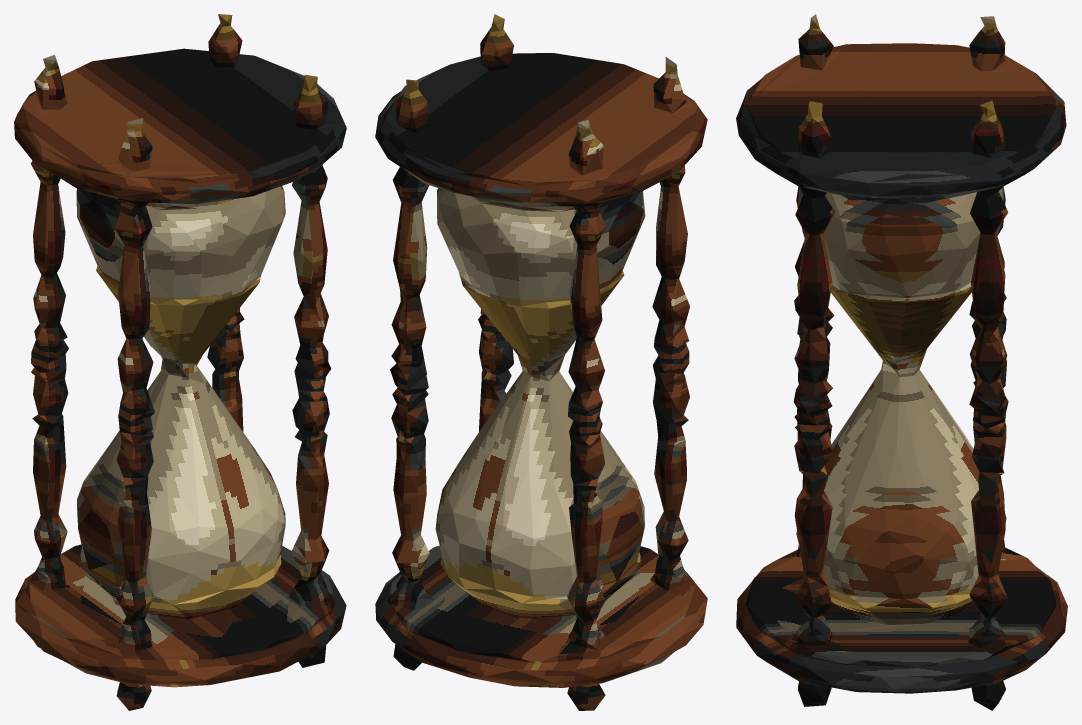
Rendered from hourglass.glb.
The picture shows the model from 3 angles, left to right: view 1: azimuth 30°, elevation 25°; view 2: azimuth 150°, elevation 25°; view 3: azimuth 270°, elevation 25°; orthographic projection. The views are drawn at different scales.
Parts seen in each view (by area): view 1: hourglass; view 2: hourglass; view 3: hourglass.
Part boxes in pixels (box(x1,y1,x2,y2)): hourglass: box(14, 14, 346, 710); hourglass: box(375, 14, 707, 710); hourglass: box(736, 14, 1067, 710).
Size of the model in its own units: 0.3021 by 0.6 by 0.2973.
Materials: 1 (1 with a texture image).
